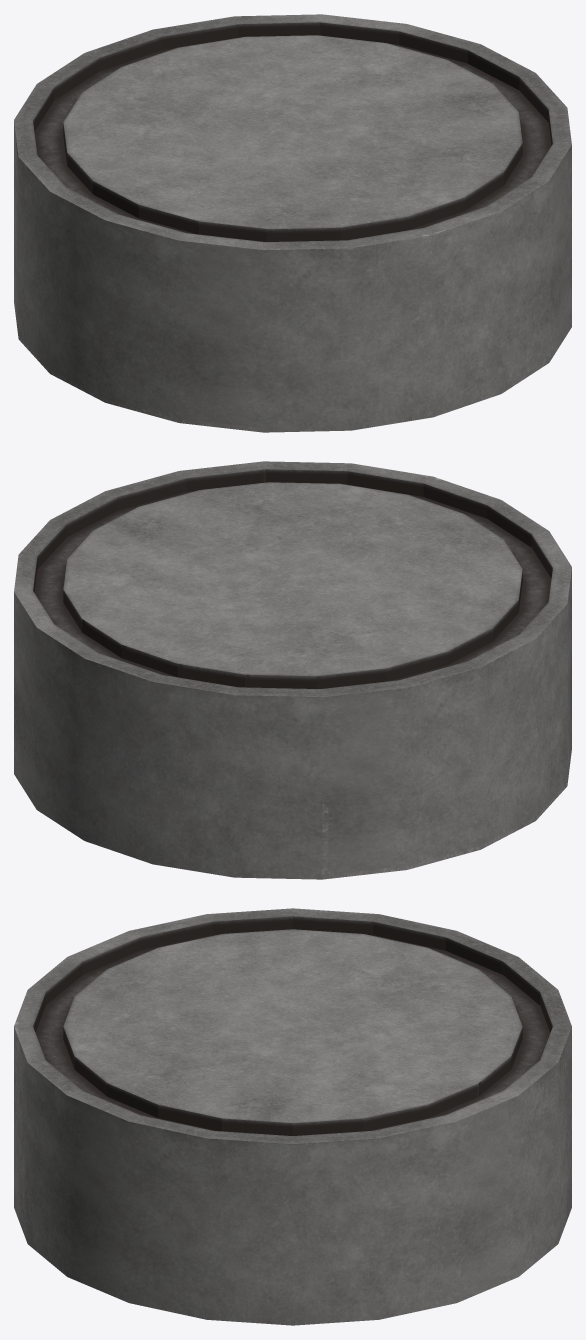
Rendered from SM_Stage.fbx.
3 renders of one model, top to bottom at view 1: azimuth 30°, elevation 25°; view 2: azimuth 150°, elevation 25°; view 3: azimuth 270°, elevation 25°, orthographic.
Parts seen in each view (by area): view 1: pCylinder17; view 2: pCylinder17; view 3: pCylinder17.
Part boxes in pixels (bbox=[...]): pCylinder17: bbox=[14, 14, 571, 432]; pCylinder17: bbox=[14, 461, 571, 879]; pCylinder17: bbox=[14, 908, 571, 1325].
Bounding box in the file's own units: 3147 × 1129 × 3147.
